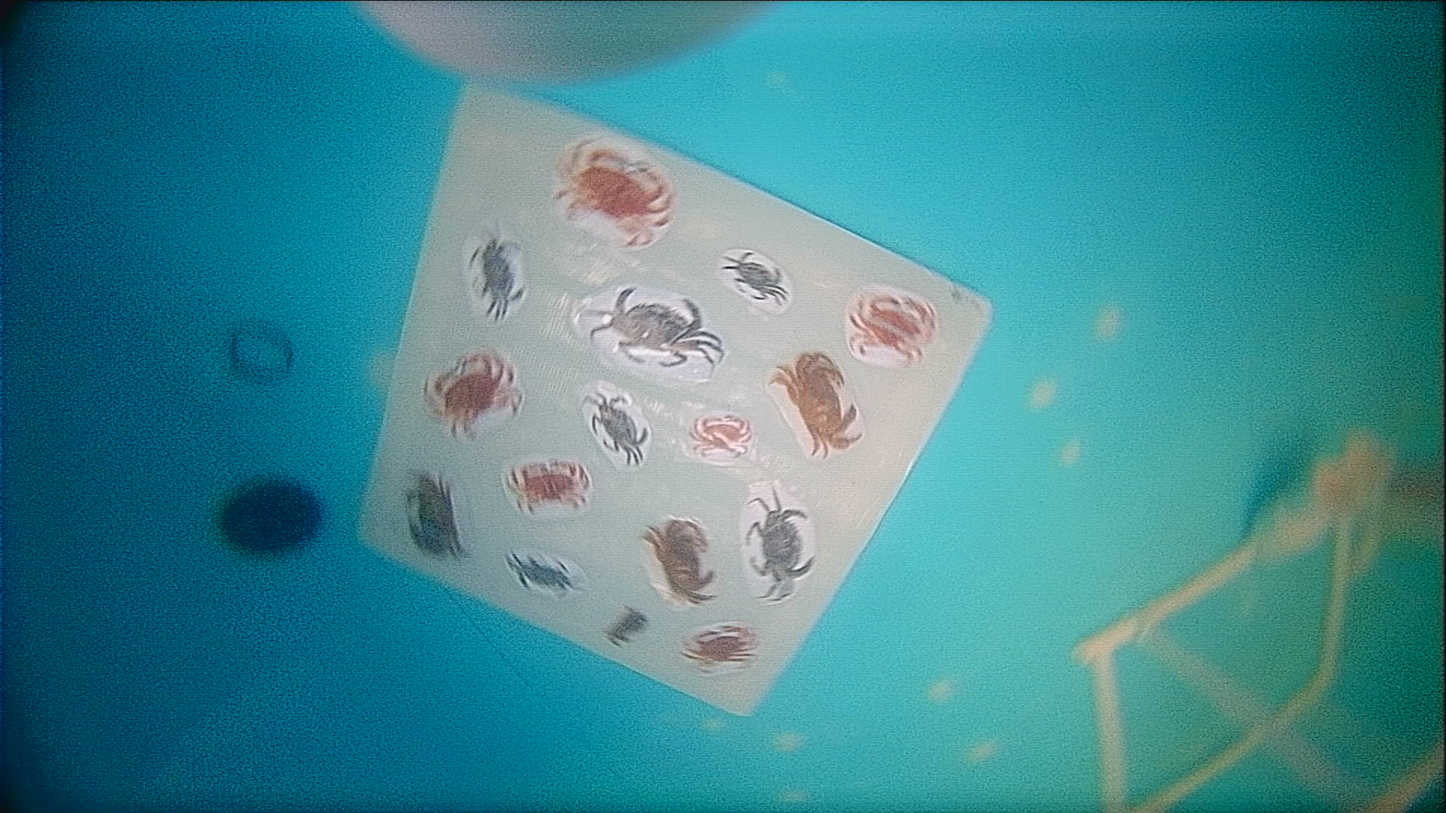GreenCrab: (582, 287, 725, 374), (745, 489, 812, 600), (585, 392, 648, 464), (723, 251, 788, 303)
